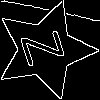Z: (20, 24, 75, 68)
